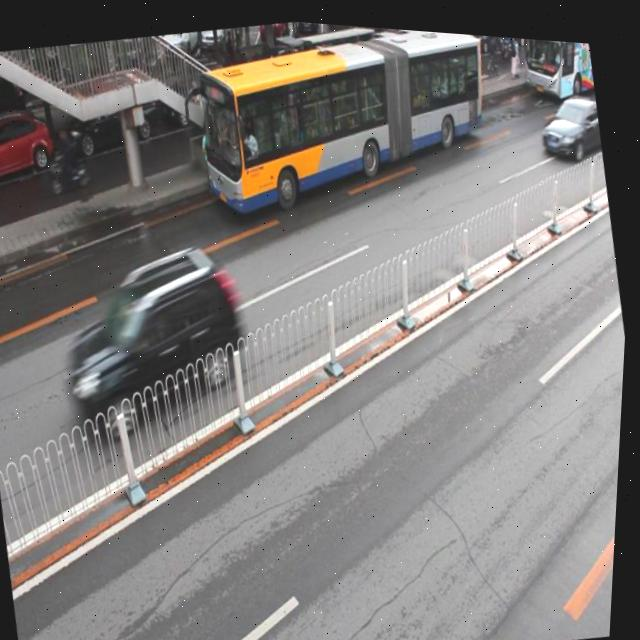car: (51, 228, 260, 445), (54, 73, 162, 158), (159, 51, 242, 133), (246, 33, 334, 110), (533, 79, 607, 160), (0, 103, 63, 196)
van: (189, 11, 503, 219), (513, 30, 596, 93)
